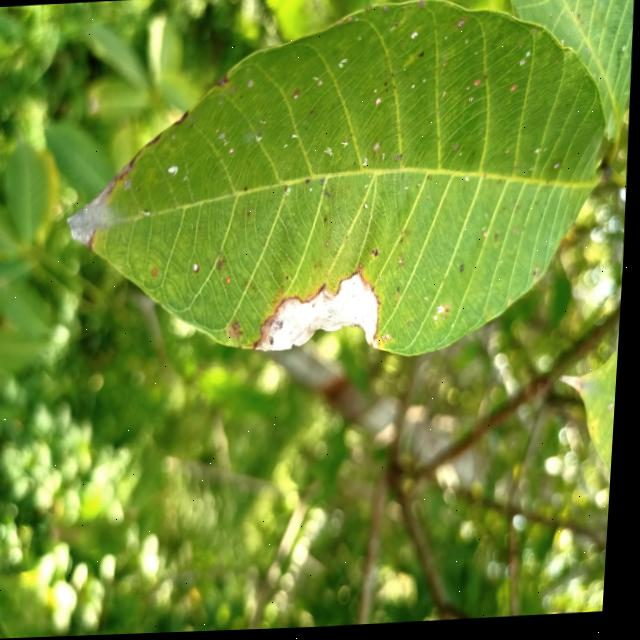Colletotrichum: (195, 263, 202, 273), (322, 182, 327, 186), (308, 181, 312, 185), (329, 243, 332, 248), (385, 84, 388, 88), (327, 219, 329, 223), (298, 230, 301, 232), (289, 278, 292, 280)
Leaf-Blight: (257, 274, 386, 352), (67, 185, 115, 246)
